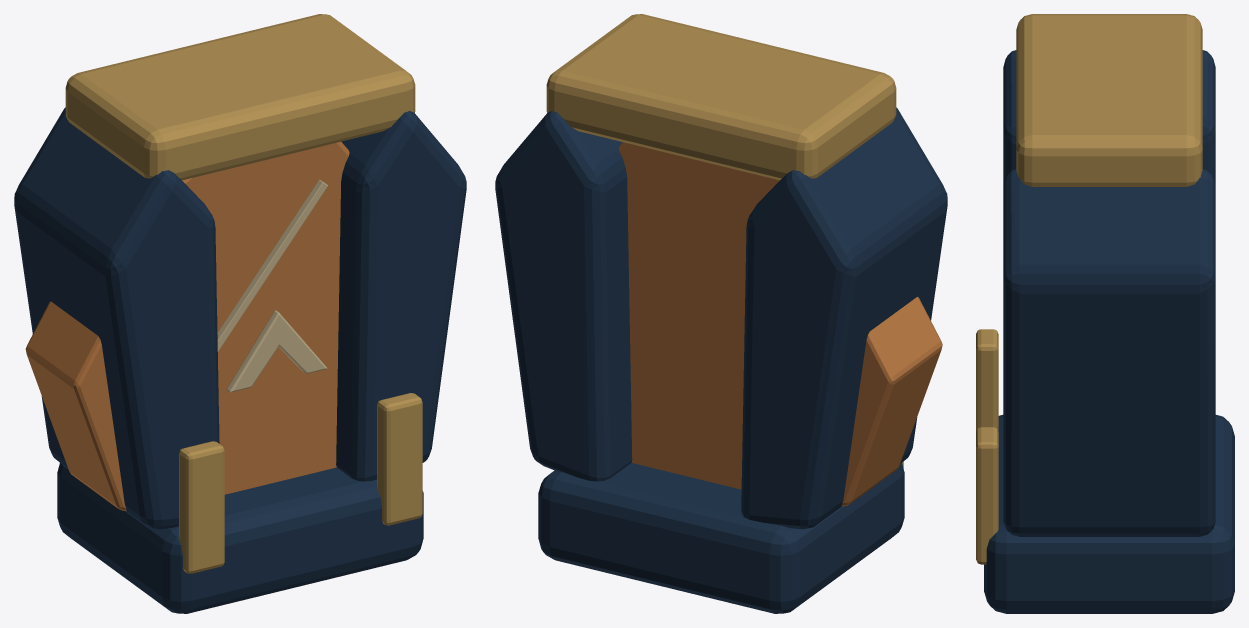
Rendered from DAMAGE_CELL.hi.glb.
3 renders of one model, left to right at view 1: azimuth 30°, elevation 25°; view 2: azimuth 150°, elevation 25°; view 3: azimuth 270°, elevation 25°, orthographic.
Parts seen in each view (by area): view 1: Body_Mesh; view 2: Body_Mesh; view 3: Body_Mesh.
Boxes of the visible parts, left/top/right/bottom form: Body_Mesh: left=14, top=14, right=466, bottom=613; Body_Mesh: left=495, top=14, right=947, bottom=613; Body_Mesh: left=976, top=14, right=1234, bottom=613.
Bounding box in the file's own units: 0.6788 × 0.8275 × 0.4025.
